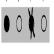correct: (4, 13, 10, 34)
no answer: (16, 12, 22, 34)
not correct: (27, 6, 36, 40)
